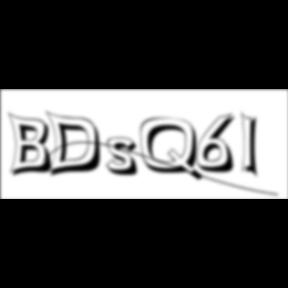6: (196, 112, 242, 176)
B: (8, 111, 58, 179)
D: (46, 110, 108, 180)
I: (241, 110, 265, 182)
Q: (140, 117, 206, 184)
s: (106, 137, 146, 179)
